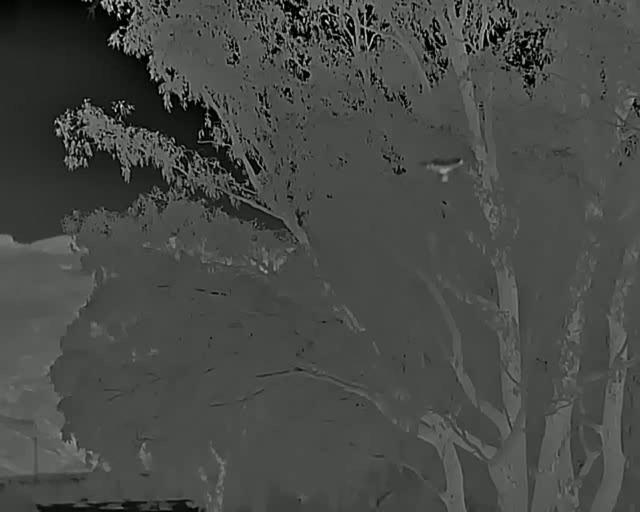DJI-Phantom: (428, 159, 465, 182)
